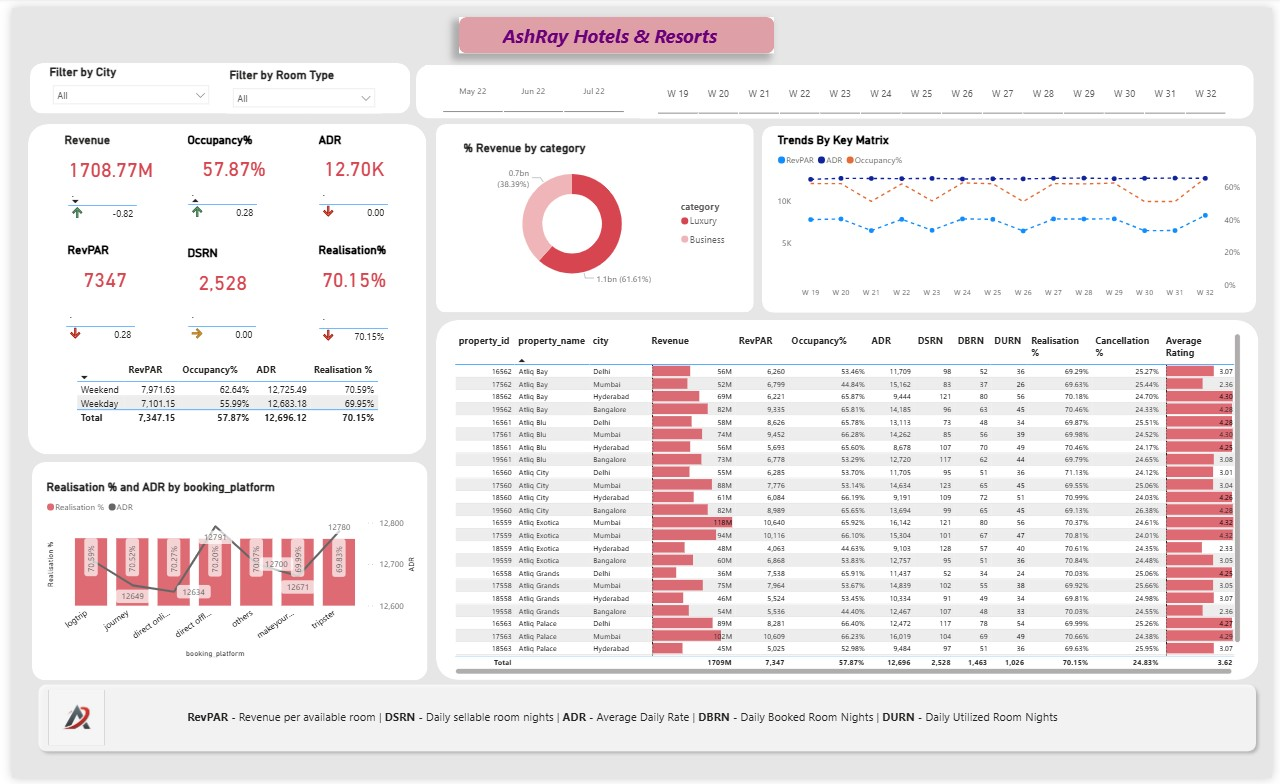

This screenshot's page, from the dashboard's own definition file:
{"tool":"powerbi","page":{"name":"Page 1","canvas":[1800,1100],"ordinal":0},"visuals":[{"type":"shape","box":[605.9,445.9,1174.9,514.3],"z":0},{"type":"shape","box":[28.7,648.3,564.9,311.9],"z":1000},{"type":"shape","box":[1071,168.2,705.8,266.7],"z":2000},{"type":"lineChart","title":"Trends By Key Matrix","fields":{"Category":["dim_date.mmm yy.Variation.Date Hierarchy.Month","dim_date.week no"],"Y":["key_measures.RevPAR","key_measures.ADR"],"Y2":["key_measures.Occupancy%"]},"box":[1088.8,179.2,671.6,246.2],"z":3000},{"type":"shape","box":[605.9,165.5,454.1,269.5],"z":4000},{"type":"donutChart","title":"% Revenue by category","fields":{"Category":["dim_hotels.category"],"Y":["key_measures.Revenue"]},"box":[639.5,189.8,394.3,217.3],"z":5000},{"type":"shape","box":[23.3,165.6,569.4,472.2],"z":6000},{"type":"shape","box":[25.6,79.1,543.3,72.4],"z":7000},{"type":"shape","box":[577.2,82.1,1196.8,76.6],"z":8000},{"type":"slicer","title":"Filter by City","fields":{"Values":["dim_hotels.city"]},"box":[47.9,82.1,243.5,65.7],"z":9000},{"type":"slicer","title":"Filter by Room Type","fields":{"Values":["dim_room.room_class"]},"box":[305.6,86,222.9,65.5],"z":10000},{"type":"slicer","fields":{"Values":["dim_date.mmm yy"]},"box":[589.4,81.8,307.9,73.8],"z":11000},{"type":"slicer","fields":{"Values":["dim_date.week no"]},"box":[897.3,86.2,860.3,72.5],"z":12000},{"type":"lineStackedColumnComboChart","fields":{"Category":["fact_bookings.booking_platform"],"Y":["key_measures.Realisation %"],"Y2":["key_measures.ADR"]},"box":[43.8,674.3,537.5,258.5],"z":13000},{"type":"tableEx","fields":{"Values":["key_measures.Revenue WoW change %"]},"box":[73.9,250.3,109.4,84.8],"z":14000},{"type":"card","title":"Revenue","fields":{"Values":["key_measures.Revenue"]},"box":[70.6,178.5,142.1,82.2],"z":15000},{"type":"card","title":"RevPAR","fields":{"Values":["key_measures.RevPAR"]},"box":[73.9,335.1,117.6,82.1],"z":16000},{"type":"card","title":"DSRN","fields":{"Values":["key_measures.DSRN"]},"box":[246.4,339.5,110.9,83.5],"z":17000},{"type":"card","title":"Occupancy%","fields":{"Values":["key_measures.Occupancy%"]},"box":[246.2,179.2,142.2,80.7],"z":18000},{"type":"card","title":"ADR","fields":{"Values":["key_measures.ADR"]},"box":[432.2,179.2,112.2,80.7],"z":19000},{"type":"card","title":"Realisation%","fields":{"Values":["key_measures.Realisation %"]},"box":[432.5,335.4,112.2,82.1],"z":20000},{"type":"tableEx","fields":{"Values":["dim_date.Day_type","key_measures.RevPAR","key_measures.Occupancy%","key_measures.ADR","key_measures.Realisation %"]},"box":[87.5,502,454.1,101.2],"z":21000},{"type":"tableEx","fields":{"Values":["key_measures.Revpar WoW change %"]},"box":[71.2,423,109.5,84.9],"z":22000},{"type":"tableEx","fields":{"Values":["key_measures.DSRN WoW change %"]},"box":[246.4,423,108.1,84.9],"z":23000},{"type":"tableEx","fields":{"Values":["key_measures.Realisation %"]},"box":[432.5,425.7,109.5,84.9],"z":24000},{"type":"tableEx","fields":{"Values":["dim_hotels.property_id","dim_hotels.property_name","dim_hotels.city","key_measures.Revenue","key_measures.RevPAR","key_measures.Occupancy%","key_measures.ADR","key_measures.DSRN","key_measures.DBRN","key_measures.DURN","key_measures.Realisation %","key_measures.Cancellation %"]},"box":[627.8,459.6,1132.5,496.5],"z":25000},{"type":"shape","box":[28.7,956.8,1757.6,113.6],"z":26000},{"type":"tableEx","fields":{"Values":["key_measures.Occupancy WoW change %"]},"box":[246.4,249.1,109.5,84.9],"z":27000},{"type":"tableEx","fields":{"Values":["key_measures.ADR WoW change %"]},"box":[432.5,249.1,109.5,84.9],"z":28000},{"type":"textbox","box":[246.4,996.5,1330.5,54.8],"z":29000},{"type":"image","box":[52,974.6,80.8,79.4],"z":30000},{"type":"shape","title":"A","box":[639.2,12.3,450.3,52],"z":31000},{"type":"textbox","box":[640.1,16.4,459.6,47.9],"z":32000}]}

Visuals, with their boxes in screenshot pixels (x1, y1, x2, y2), scaled from the page's 1800x1100 canvas onto the 1280x784 screenshot:
shape: [left=431, top=318, right=1266, bottom=684]
shape: [left=20, top=462, right=422, bottom=684]
shape: [left=762, top=120, right=1264, bottom=310]
"Trends By Key Matrix" lineChart: [left=774, top=128, right=1252, bottom=303]
shape: [left=431, top=118, right=754, bottom=310]
"% Revenue by category" donutChart: [left=455, top=135, right=735, bottom=290]
shape: [left=17, top=118, right=421, bottom=455]
shape: [left=18, top=56, right=405, bottom=108]
shape: [left=410, top=59, right=1262, bottom=113]
"Filter by City" slicer: [left=34, top=59, right=207, bottom=105]
"Filter by Room Type" slicer: [left=217, top=61, right=376, bottom=108]
slicer - dim_date.mmm yy: [left=419, top=58, right=638, bottom=111]
slicer - dim_date.week no: [left=638, top=61, right=1250, bottom=113]
lineStackedColumnComboChart - fact_bookings.booking_platform x key_measures.Realisation %: [left=31, top=481, right=413, bottom=665]
tableEx - key_measures.Revenue WoW change %: [left=53, top=178, right=130, bottom=239]
"Revenue" card: [left=50, top=127, right=151, bottom=186]
"RevPAR" card: [left=53, top=239, right=136, bottom=297]
"DSRN" card: [left=175, top=242, right=254, bottom=301]
"Occupancy%" card: [left=175, top=128, right=276, bottom=185]
"ADR" card: [left=307, top=128, right=387, bottom=185]
"Realisation%" card: [left=308, top=239, right=387, bottom=298]
tableEx - dim_date.Day_type x key_measures.RevPAR: [left=62, top=358, right=385, bottom=430]
tableEx - key_measures.Revpar WoW change %: [left=51, top=301, right=128, bottom=362]
tableEx - key_measures.DSRN WoW change %: [left=175, top=301, right=252, bottom=362]
tableEx - key_measures.Realisation %: [left=308, top=303, right=385, bottom=364]
tableEx - dim_hotels.property_id x dim_hotels.property_name: [left=446, top=328, right=1252, bottom=681]
shape: [left=20, top=682, right=1270, bottom=763]
tableEx - key_measures.Occupancy WoW change %: [left=175, top=178, right=253, bottom=238]
tableEx - key_measures.ADR WoW change %: [left=308, top=178, right=385, bottom=238]
textbox: [left=175, top=710, right=1121, bottom=749]
image: [left=37, top=695, right=94, bottom=751]
"A" shape: [left=455, top=9, right=775, bottom=46]
textbox: [left=455, top=12, right=782, bottom=46]
